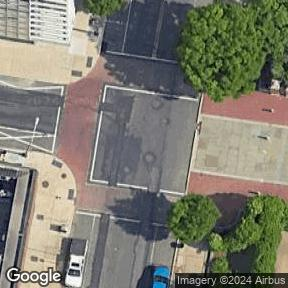vegetation: (86, 1, 125, 15)
